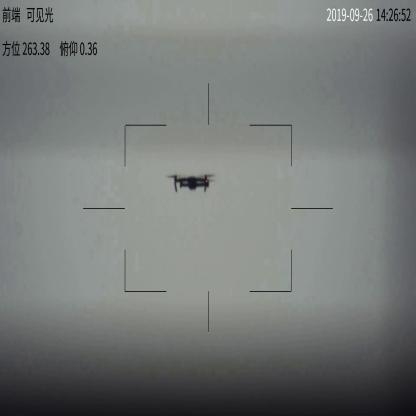uav: (165, 169, 217, 193)
